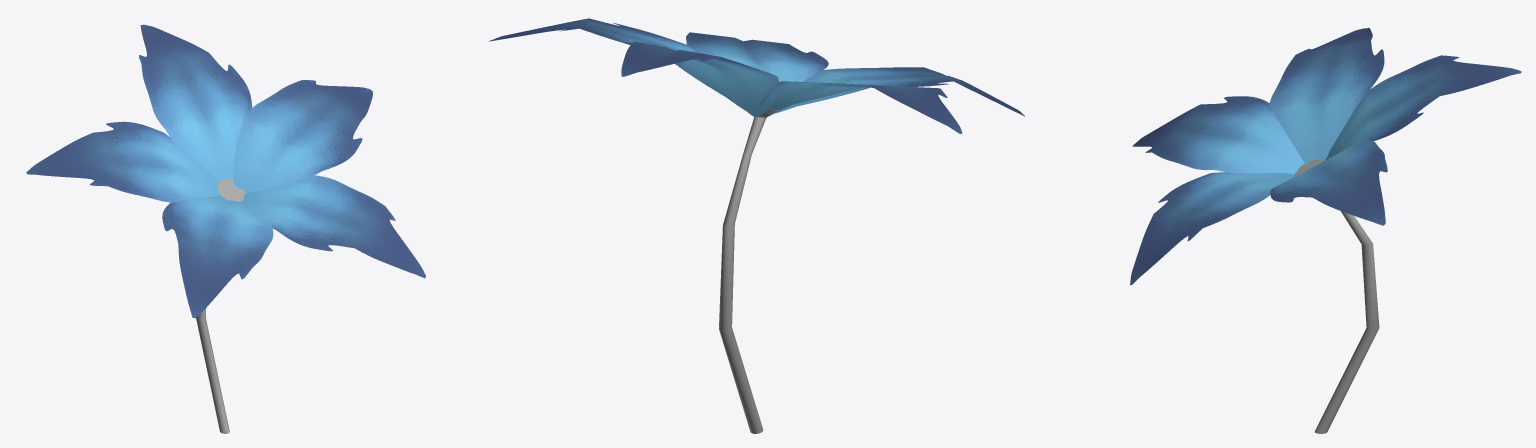
The model's file is Flower.fbx.
The picture shows the model from 3 angles, left to right: view 1: azimuth 30°, elevation 25°; view 2: azimuth 150°, elevation 25°; view 3: azimuth 270°, elevation 25°; orthographic projection. The views are drawn at different scales.
Visible parts, largest first — view 1: Flower3; view 2: Flower3; view 3: Flower3.
Boxes of the visible parts, box(x1,y1,x2,y2) form: Flower3: box(26, 24, 425, 433); Flower3: box(489, 18, 1024, 433); Flower3: box(1130, 27, 1521, 433).
Bounding box in the file's own units: 91.15 × 75.71 × 80.46.
